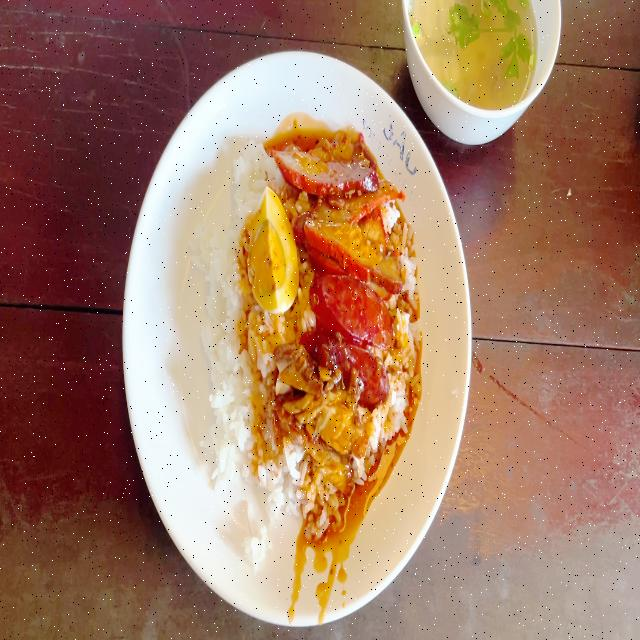boiled_egg: (249, 193, 291, 313)
chainese_sausage: (314, 277, 395, 394), (319, 272, 401, 343), (311, 334, 390, 399)
crispy_pork: (277, 390, 367, 490), (288, 428, 347, 482), (296, 390, 360, 434)
red_pork: (289, 146, 404, 284), (308, 213, 398, 277), (286, 147, 376, 192), (303, 186, 398, 211)
red_pork_and_crispy_pork: (200, 136, 411, 518)
rice: (206, 197, 247, 514), (251, 316, 281, 524), (228, 142, 282, 205)
